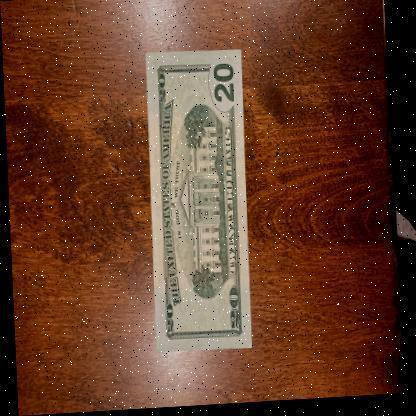twenty-back: (142, 48, 252, 354)
